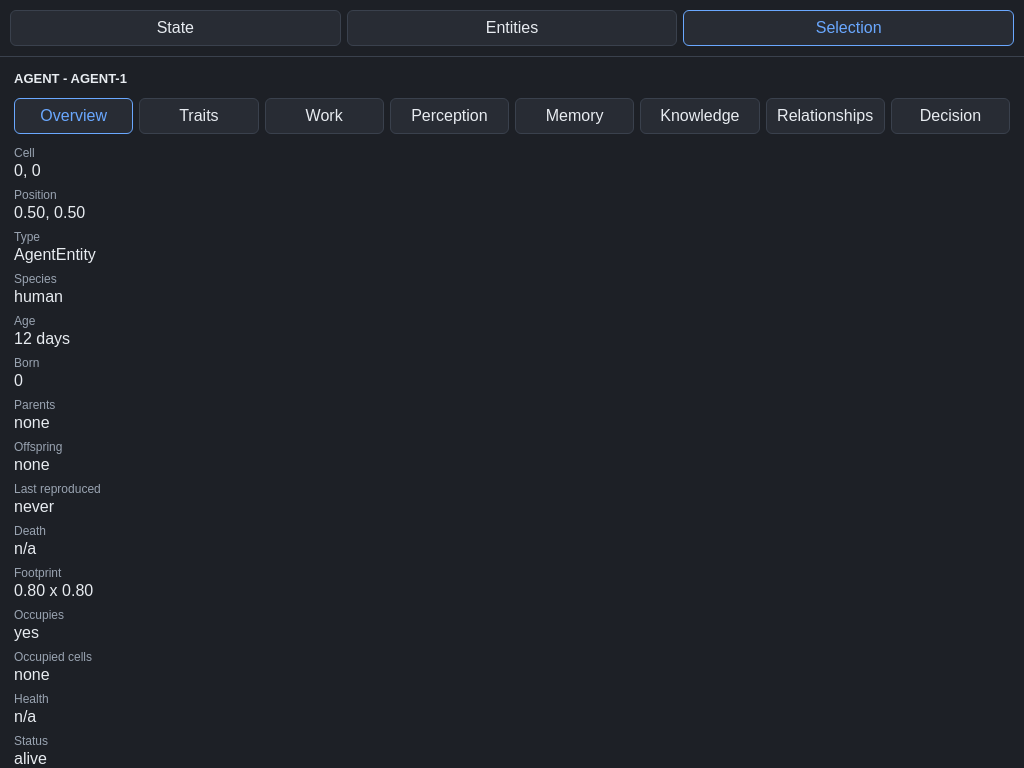
Test case: Inspector › renders selected agent goal and task queue in the work tab
Click the button "Work": point(324, 116) 264,98 -> 384,134
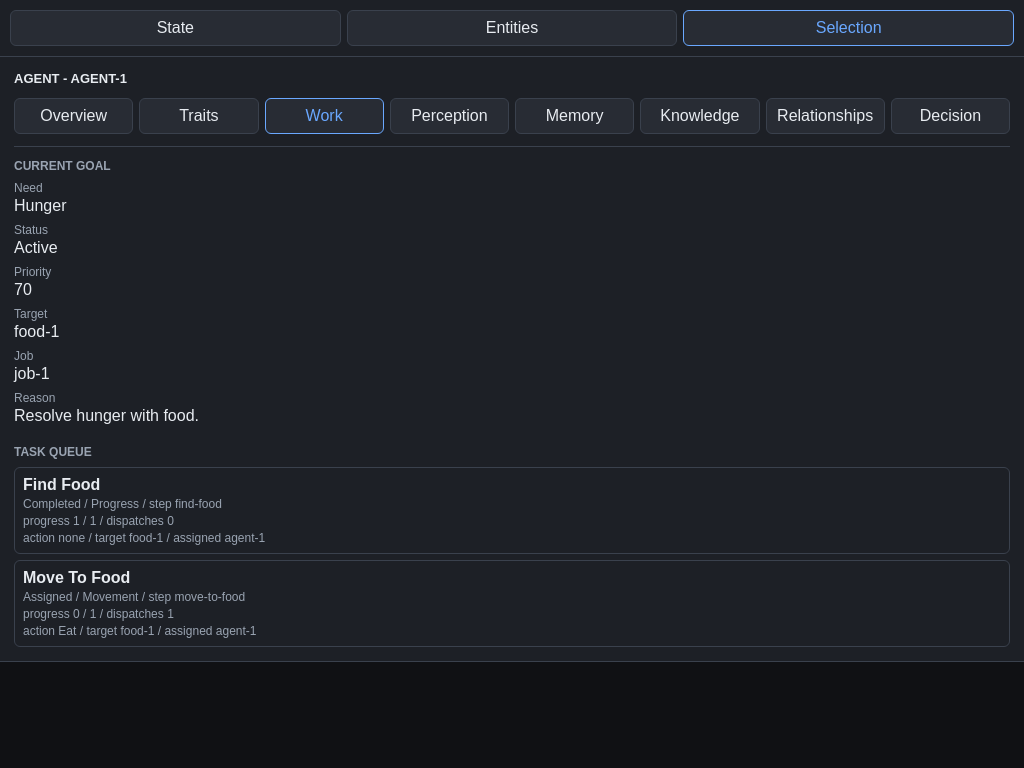
Now the text "Current goal" is shown, box 14,159 -> 111,173
Now the text "Resolve hunger with food." is shown, box 14,407 -> 199,424
Now the text "Task queue" is shown, box 14,445 -> 92,459
